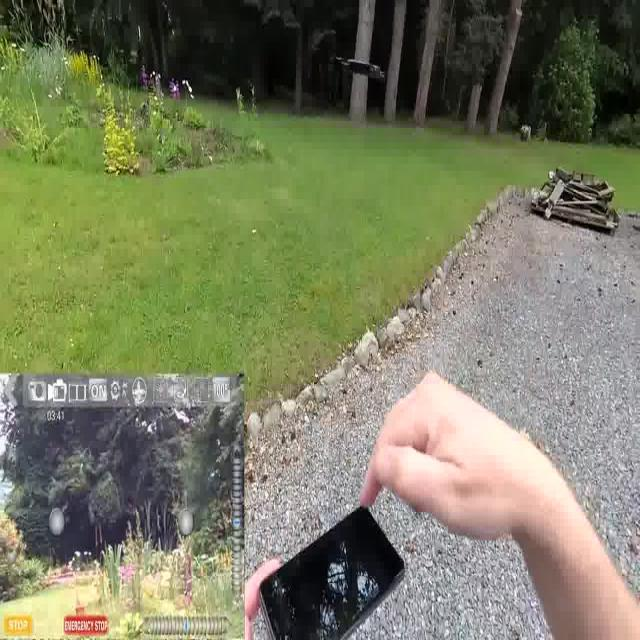drones: (329, 40, 393, 95)
